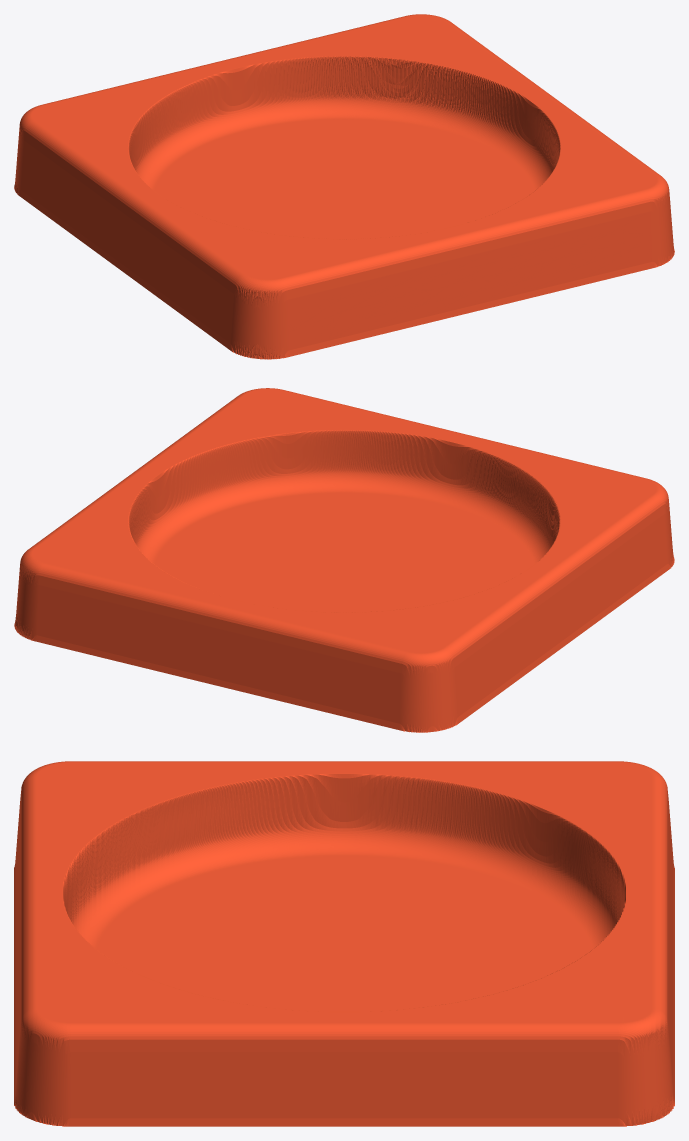
File: mold.glb
The picture shows the model from 3 angles, top to bottom: view 1: azimuth 30°, elevation 25°; view 2: azimuth 150°, elevation 25°; view 3: azimuth 270°, elevation 25°; orthographic projection. The views are drawn at different scales.
Parts seen in each view (by area): view 1: geometry_0; view 2: geometry_0; view 3: geometry_0.
Boxes of the visible parts, x1,y1,x2,y2 form: geometry_0: (14, 14, 674, 359); geometry_0: (14, 388, 674, 732); geometry_0: (14, 761, 674, 1126).
Size of the model in its own units: 0.105 by 0.0165 by 0.105.
